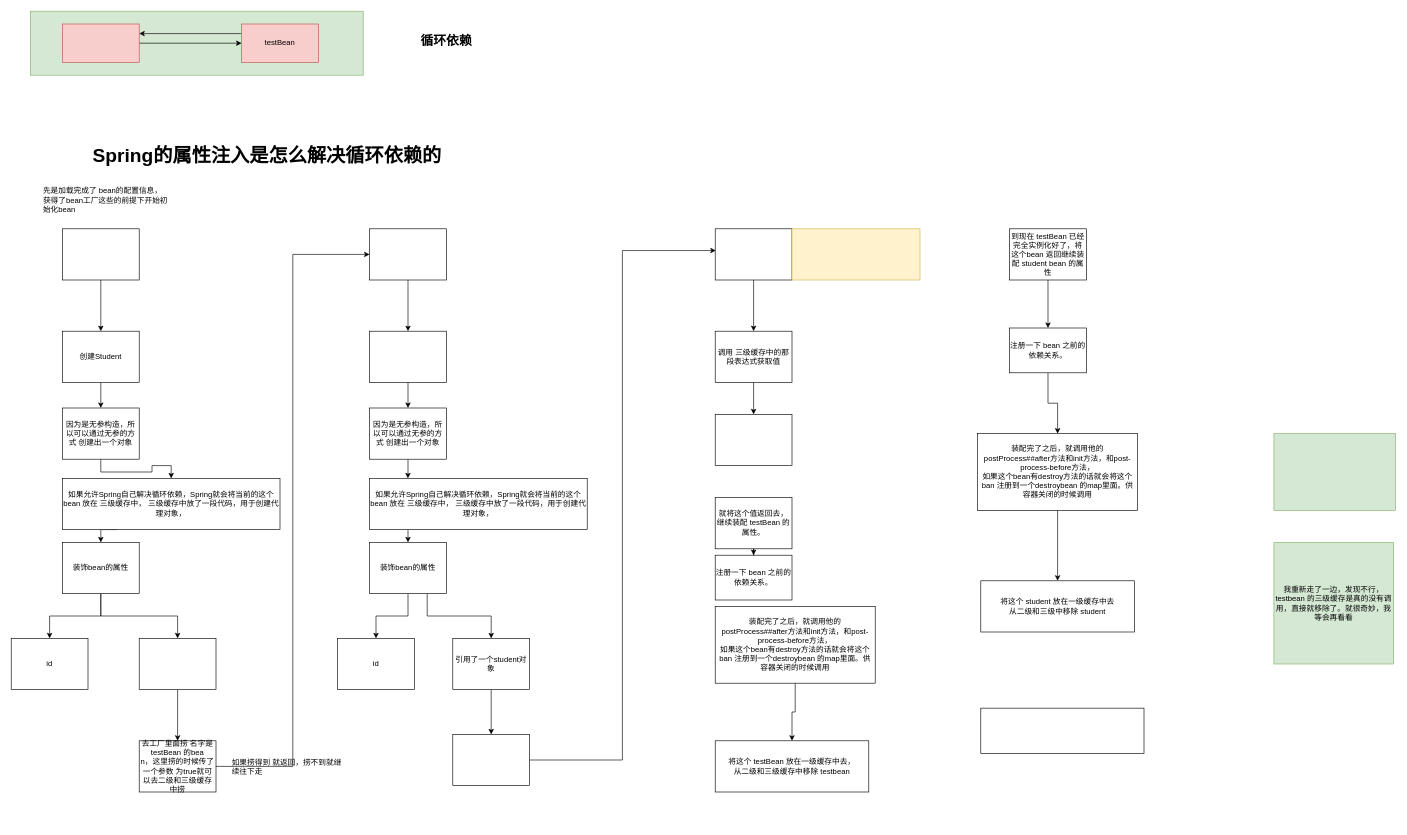
The diagram is 1407 pixels wide and 835 high, and some of its shapes have lost their labels. The shapes that lost their labels are listed below. From the top down, each one's centre as x and y in pixels, then its label:
[100,42]: sutdent
[100,254]: 拿到bean的定义信息中的bean 名字，开始循环遍历创建bean
[407,254]: 一，二，三 级缓存中没有 testbean
[753,254]: 一级缓存中没有， 二级缓存中没有， 三级缓存中捞到了
[855,254]: 根据bean 名字捞到了之前放置好的 那一段函数表达式
[407,356]: 创建 testBean
[753,440]: 将这个值放在二级缓存中，从三级缓存中移除对应的bean， 这里就是 student
[1334,471]: 疑惑 - 三级缓存中的 testBean 如果需要代理的话，会怎么办？在整个过程中好像没有 调用到testbean的三级缓存的操作
[177,664]: testBean的引用对象（这里的引用对象只是表示一个引用而已，并没有什么实际的对象）
[1062,731]: 因为开始是循环遍历，循环的下一个是 testBean， 去工厂中检查的时候发现有testbean，直接返回， 结束
[491,760]: 去工厂里面捞 名字是student 的bea n，这里捞的时候传了一个参数 为true就可以去二级和三级缓存中捞
